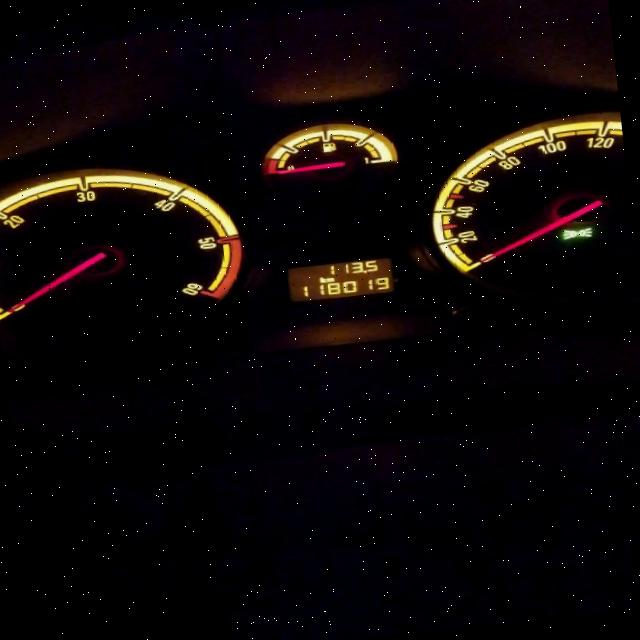odometer: (283, 254, 397, 304)
